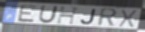E: (16, 4, 39, 23)
H: (56, 6, 81, 26)
J: (79, 8, 97, 26)
R: (96, 7, 119, 28)
U: (37, 5, 59, 24)
X: (117, 9, 139, 29)
